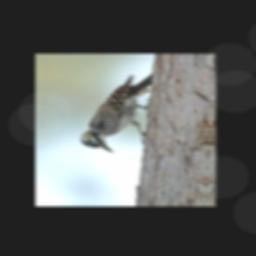Woodpecker: (78, 69, 160, 155)
